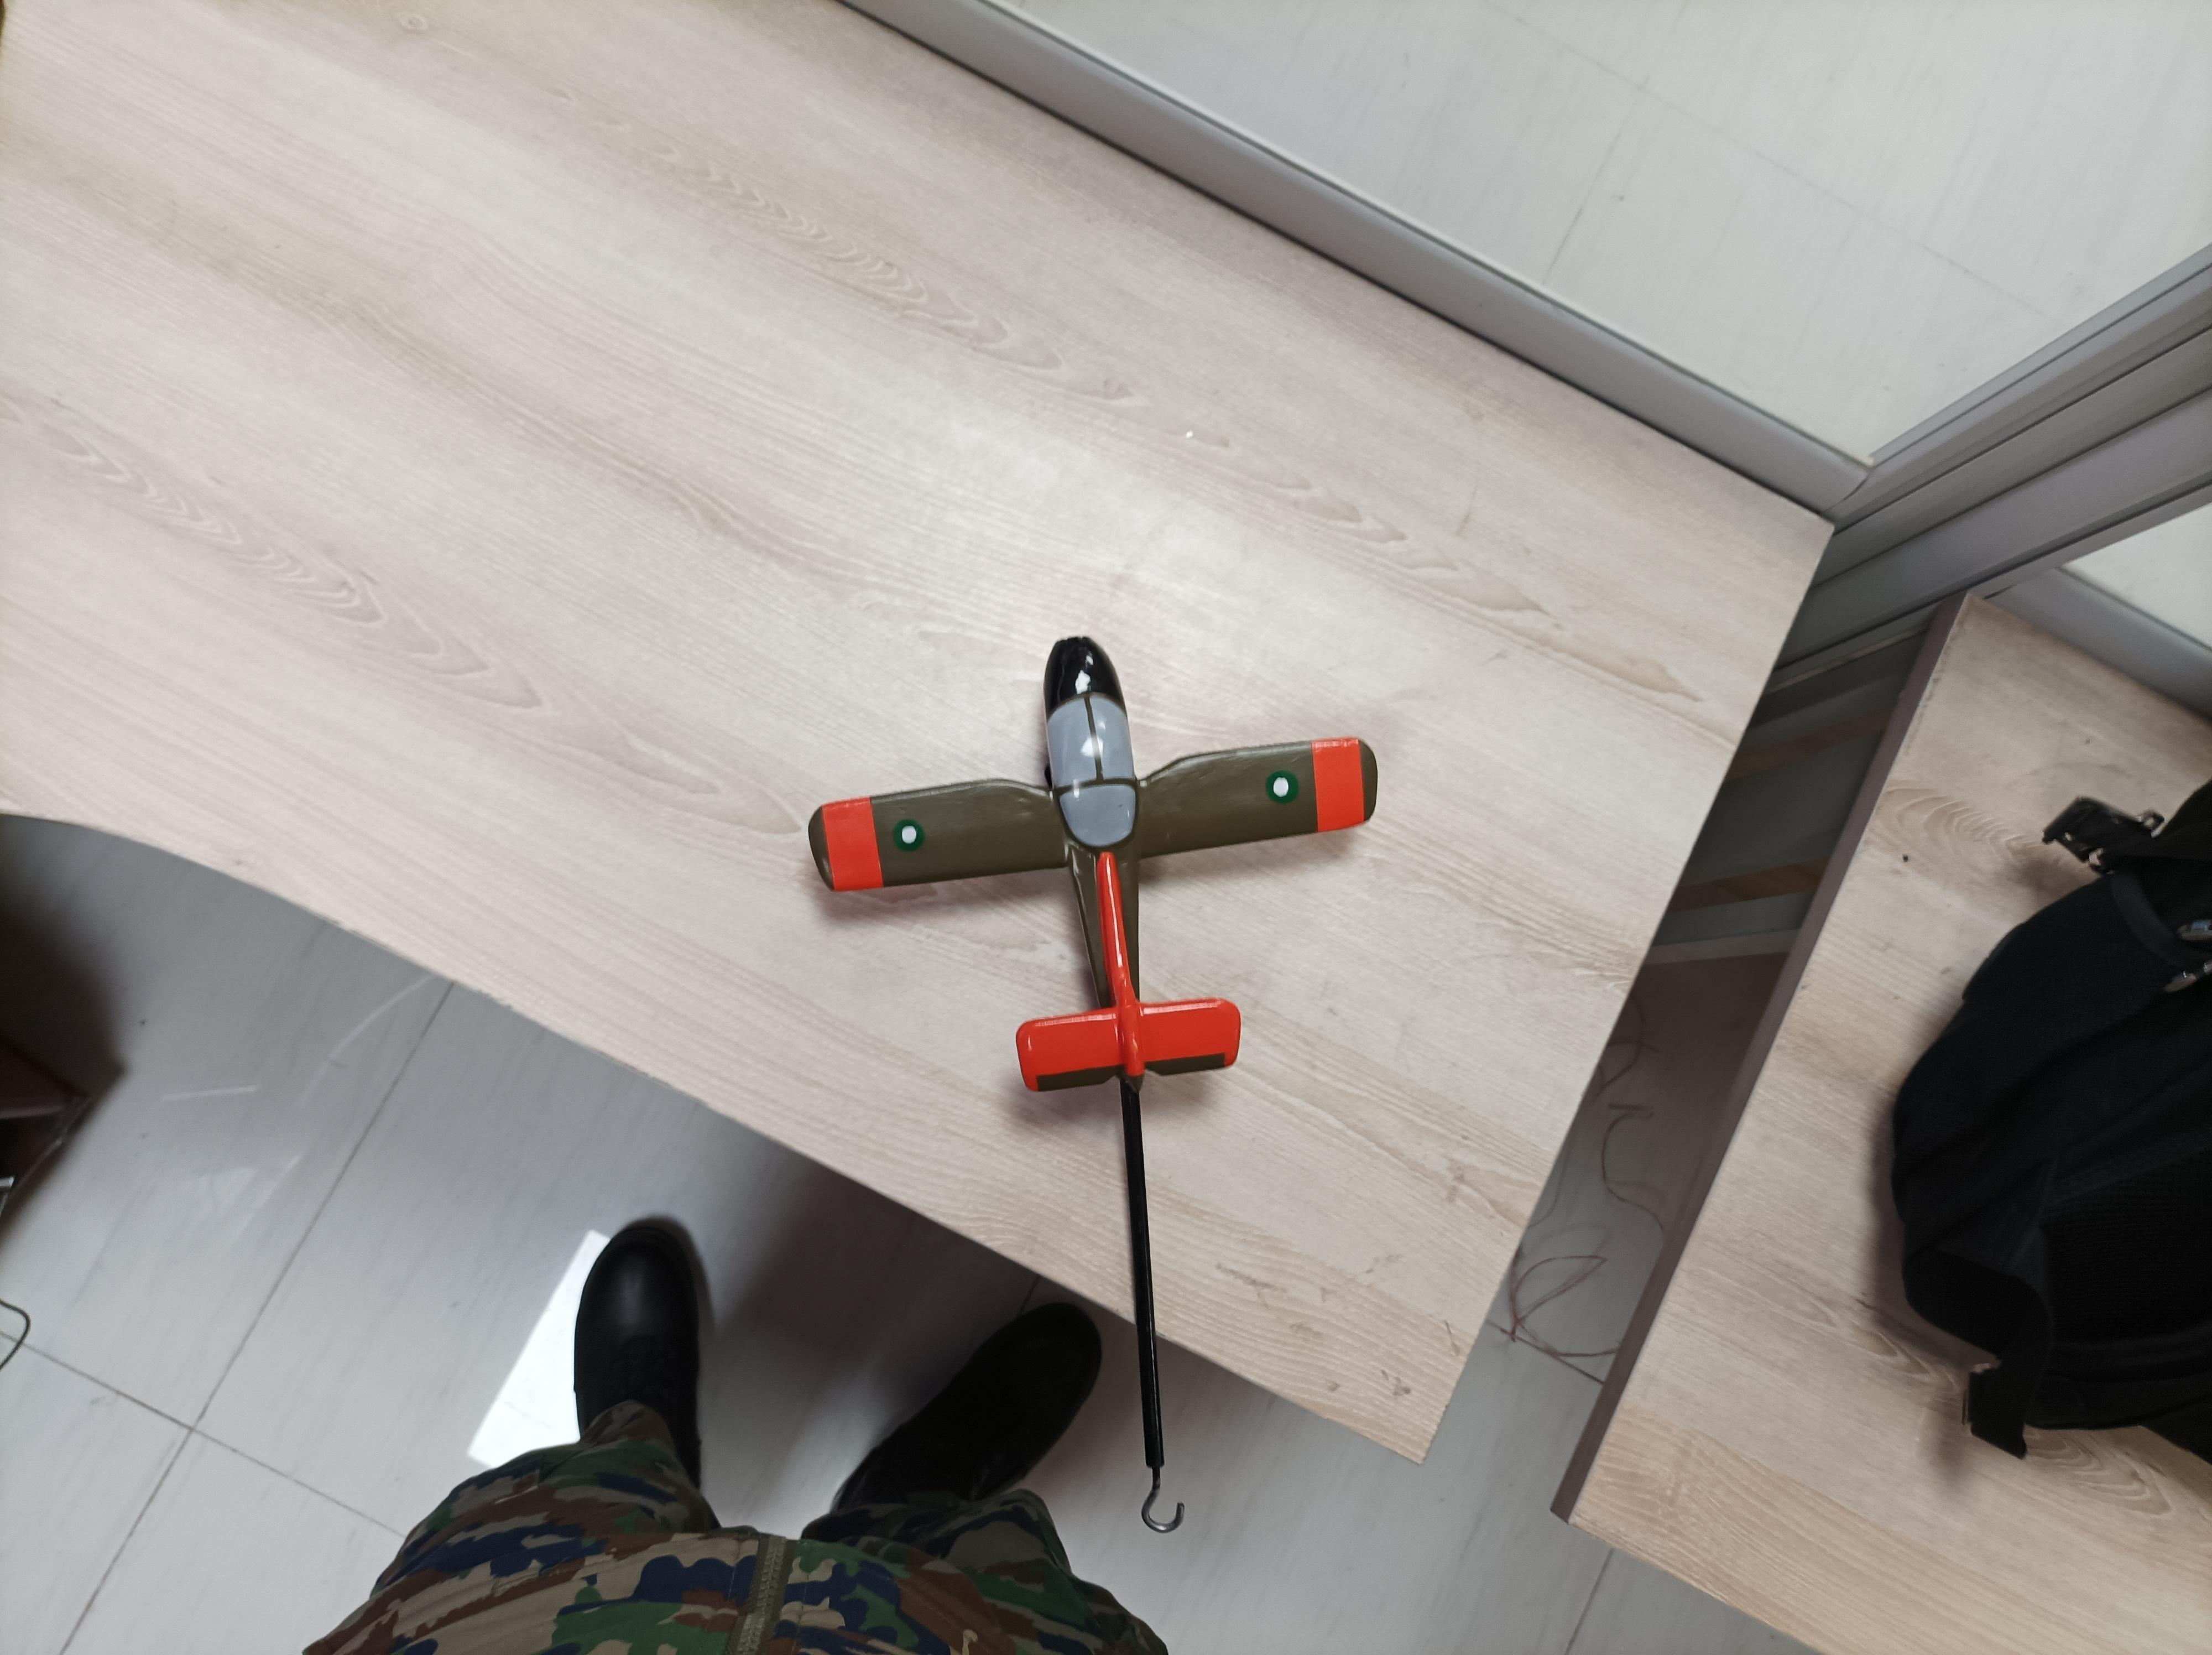Airplane: (782, 612, 1427, 1106)
